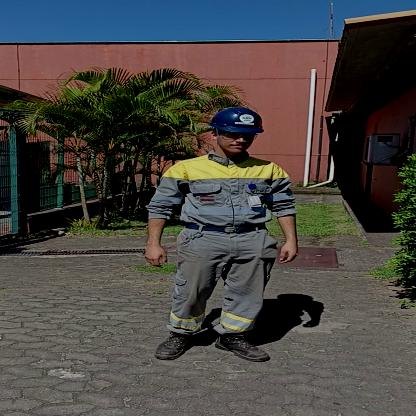Capacete: (208, 104, 265, 129)
